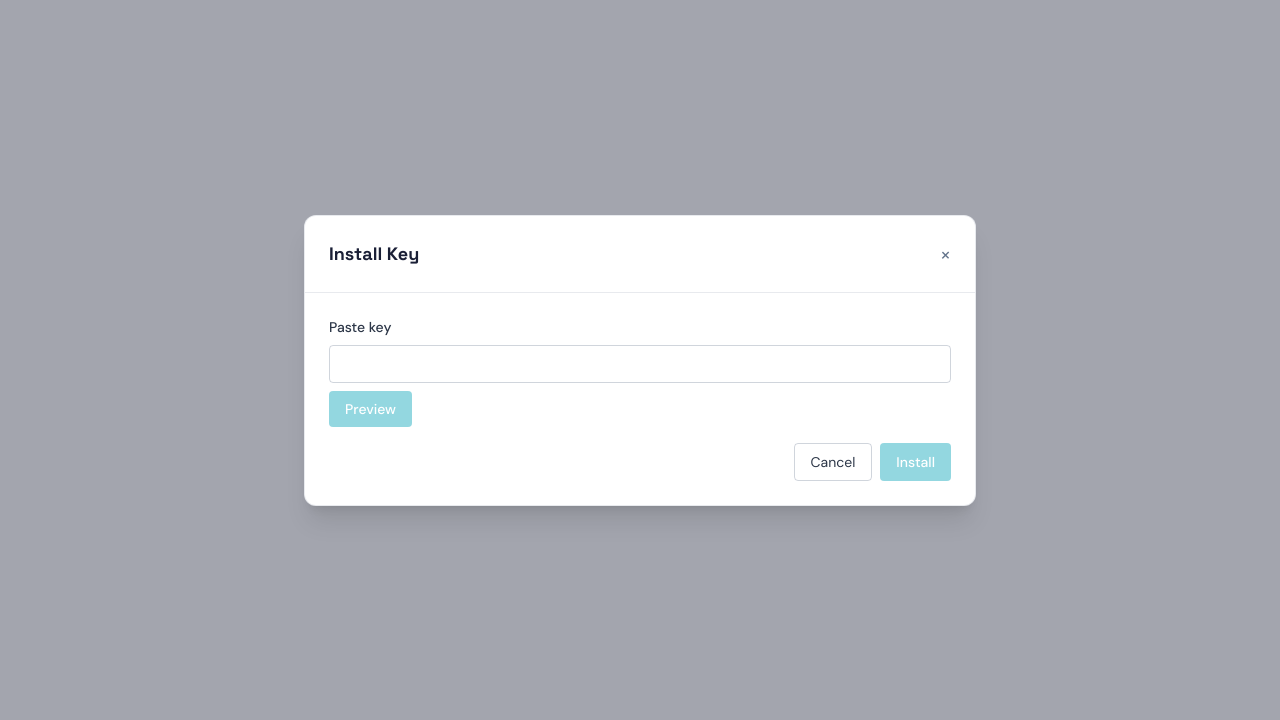
Test: InstallKeyModal › shows preview after paste + Preview click
The width and height of the screenshot is (1280, 720).
Type "plaintext-value" into the field labelled "Paste key".
click(640, 364); type("plaintext-value")  # box [329, 344, 951, 382]
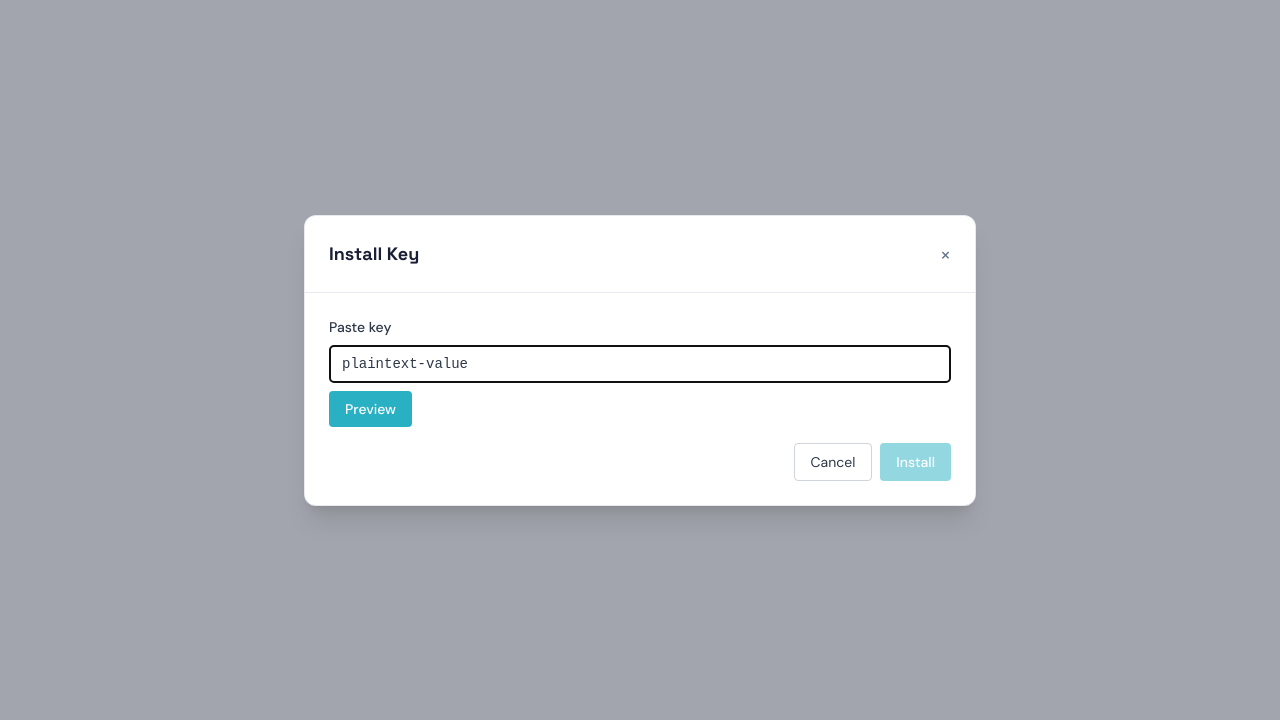
Click the button "Preview".
click(370, 408)  # box [329, 390, 412, 426]
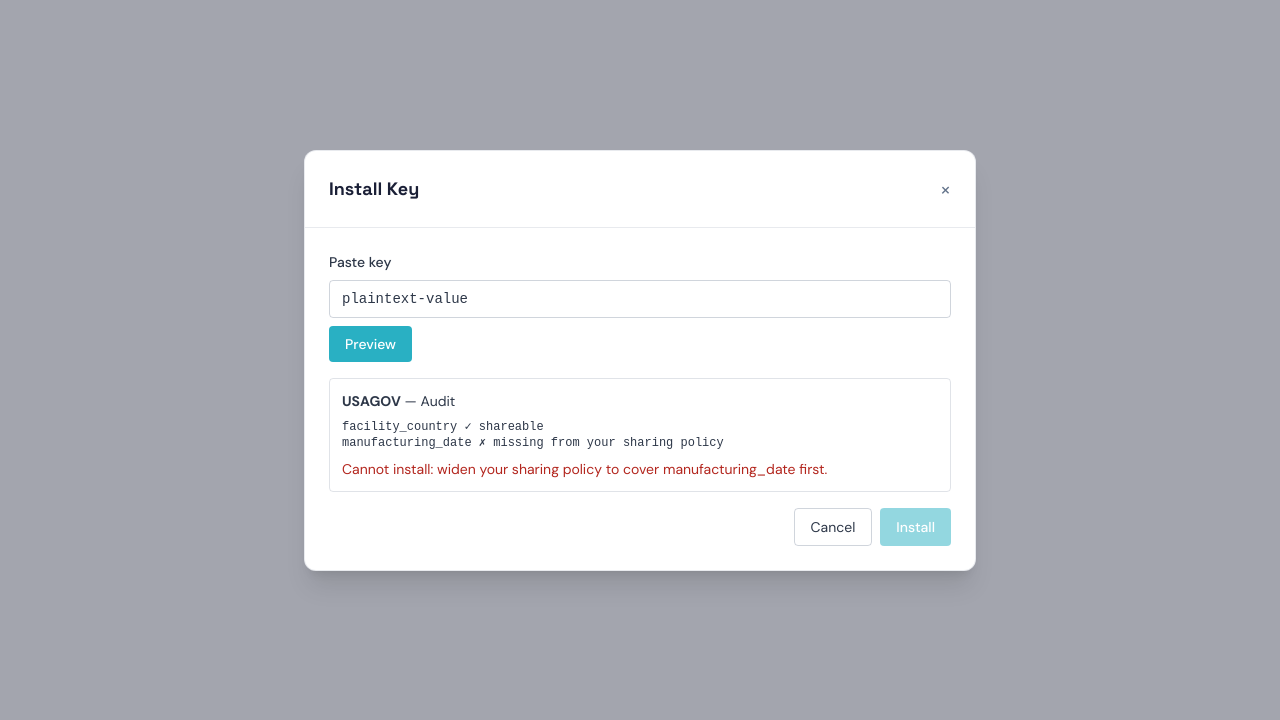
Check: the button "Install" is disabled, box [880, 508, 951, 546]
Check: the text "USAGOV" is shown, box [342, 392, 401, 410]
